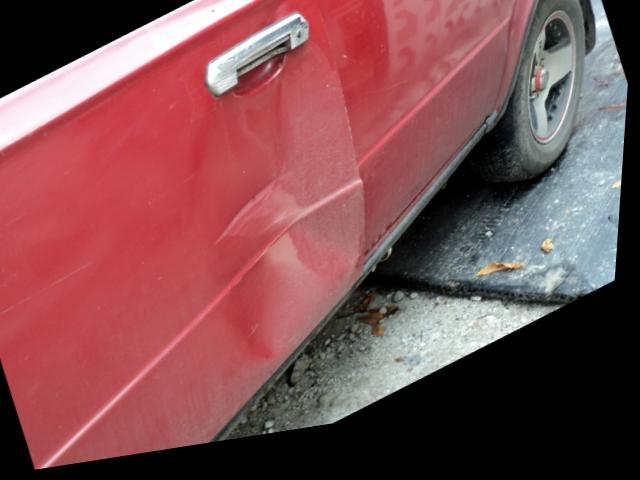dent: (195, 53, 366, 372)
